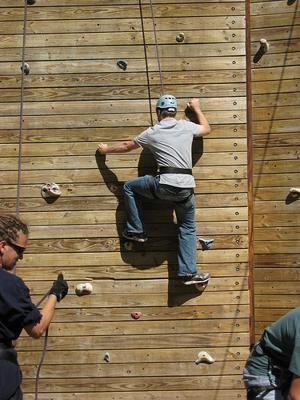person: (96, 94, 211, 287)
